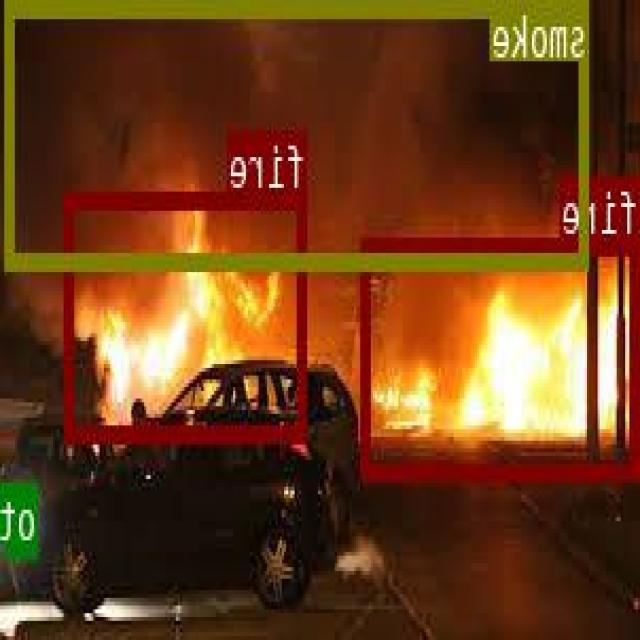fire: (362, 236, 640, 477), (66, 188, 309, 438)
other: (7, 483, 38, 554)
smoke: (9, 0, 592, 268)
